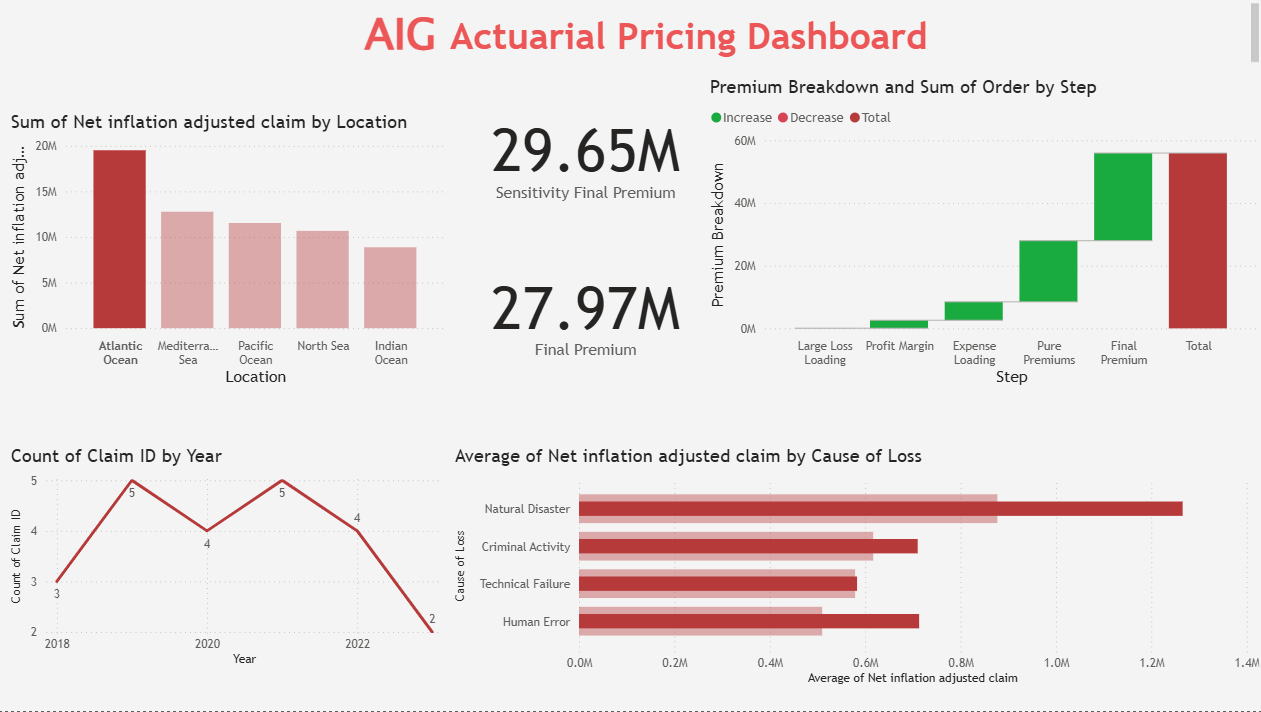

What the dashboard file says about the page in this screenshot:
{"tool":"powerbi","page":{"name":"Page 1","canvas":[1280,720],"ordinal":0},"visuals":[{"type":"clusteredColumnChart","fields":{"Category":["Claims Data.Location"],"Y":["Sum(Claims Data.Net inflation adjusted claim)"]},"box":[8.7,114.3,448.4,282.2],"z":0},{"type":"textbox","box":[0,0,1279.4,79.6],"z":1000},{"type":"lineChart","fields":{"Category":["Claims Data.Year"],"Y":["CountNonNull(Claims Data.Claim ID)"]},"box":[8.6,451.7,448.3,227.6],"z":2000},{"type":"clusteredBarChart","fields":{"Category":["Claims Data.Cause of Loss"],"Y":["Avg(Claims Data.Net inflation adjusted claim)"]},"box":[456.9,451.7,822.4,246.6],"z":3000},{"type":"waterfallChart","fields":{"Category":["Table.Step Hierarchy.Step","Table.Step"],"Y":["Claims Data.Premium Breakdown"]},"box":[715.5,79.3,563.8,317.2],"z":4000},{"type":"card","fields":{"Values":["Claims Data.Sensitivity Final Premium"]},"box":[472.4,79.3,243.1,158.6],"z":4001},{"type":"card","fields":{"Values":["Claims Data.Final Premium"]},"box":[472,238,243,158],"z":4002}]}

Visuals, with their boxes in screenshot pixels (x1, y1, x2, y2), scaled from the page's 1280x720 canvas onto the 1261x712 screenshot:
clusteredColumnChart - Claims Data.Location x Sum(Claims Data.Net inflation adjusted claim): box(9, 113, 450, 392)
textbox: box(0, 0, 1260, 79)
lineChart - Claims Data.Year x CountNonNull(Claims Data.Claim ID): box(8, 447, 450, 672)
clusteredBarChart - Claims Data.Cause of Loss x Avg(Claims Data.Net inflation adjusted claim): box(450, 447, 1260, 691)
waterfallChart - Table.Step Hierarchy.Step x Table.Step: box(705, 78, 1260, 392)
card - Claims Data.Sensitivity Final Premium: box(465, 78, 705, 235)
card - Claims Data.Final Premium: box(465, 235, 704, 392)
